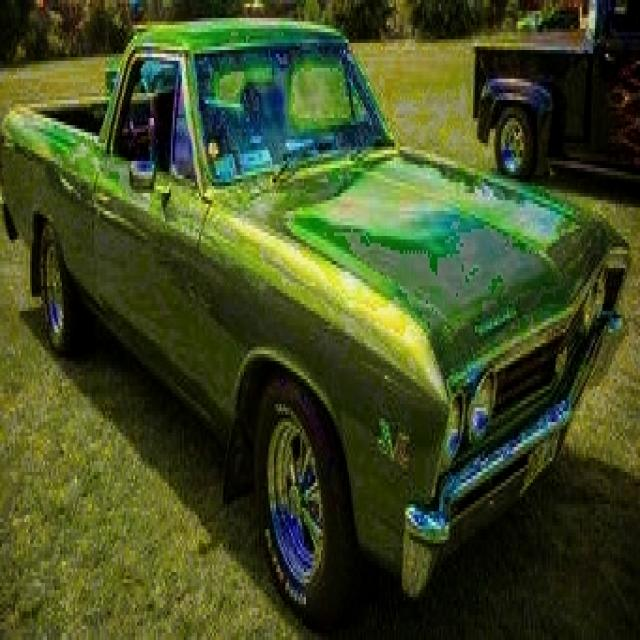green: (2, 22, 629, 626)
